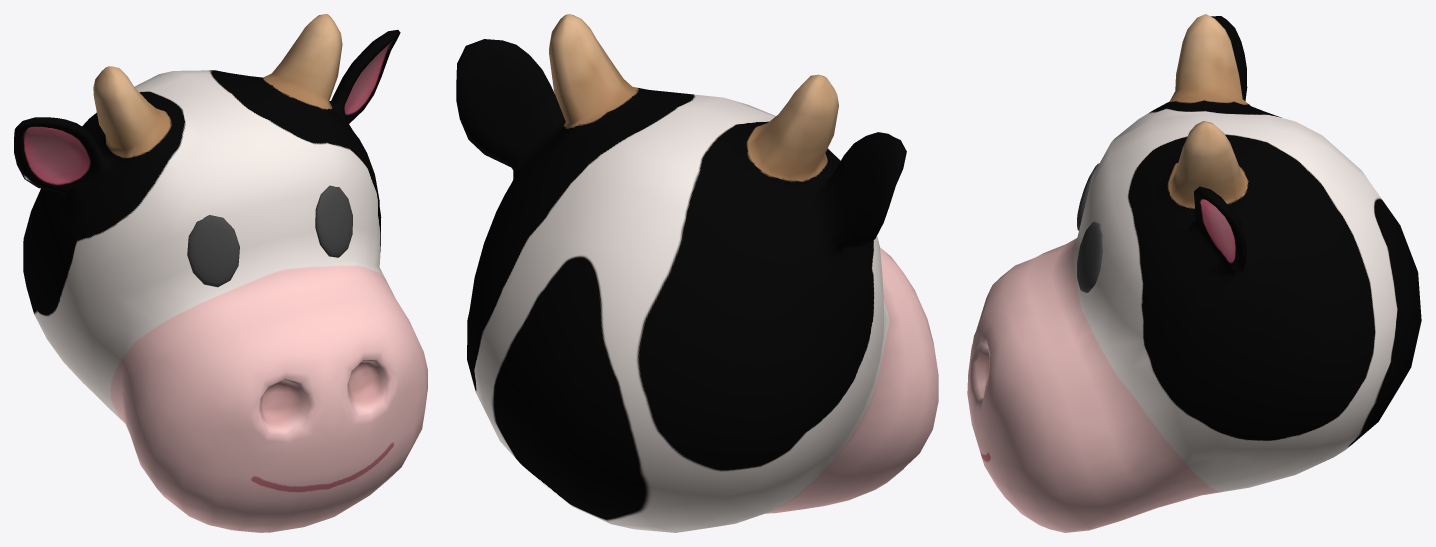
File: Cow Glb.glb
The picture shows the model from 3 angles, left to right: view 1: azimuth 30°, elevation 25°; view 2: azimuth 150°, elevation 25°; view 3: azimuth 270°, elevation 25°; orthographic projection. The views are drawn at different scales.
Visible parts, largest first — view 1: Cow; view 2: Cow; view 3: Cow.
Part boxes in pixels (<box>): Cow: <box>14,14,427,532</box>; Cow: <box>456,14,938,532</box>; Cow: <box>967,14,1421,532</box>.
Bounding box in the file's own units: 0.00679 × 0.00746 × 0.00684.
Materials: 2 (1 with a texture image).
